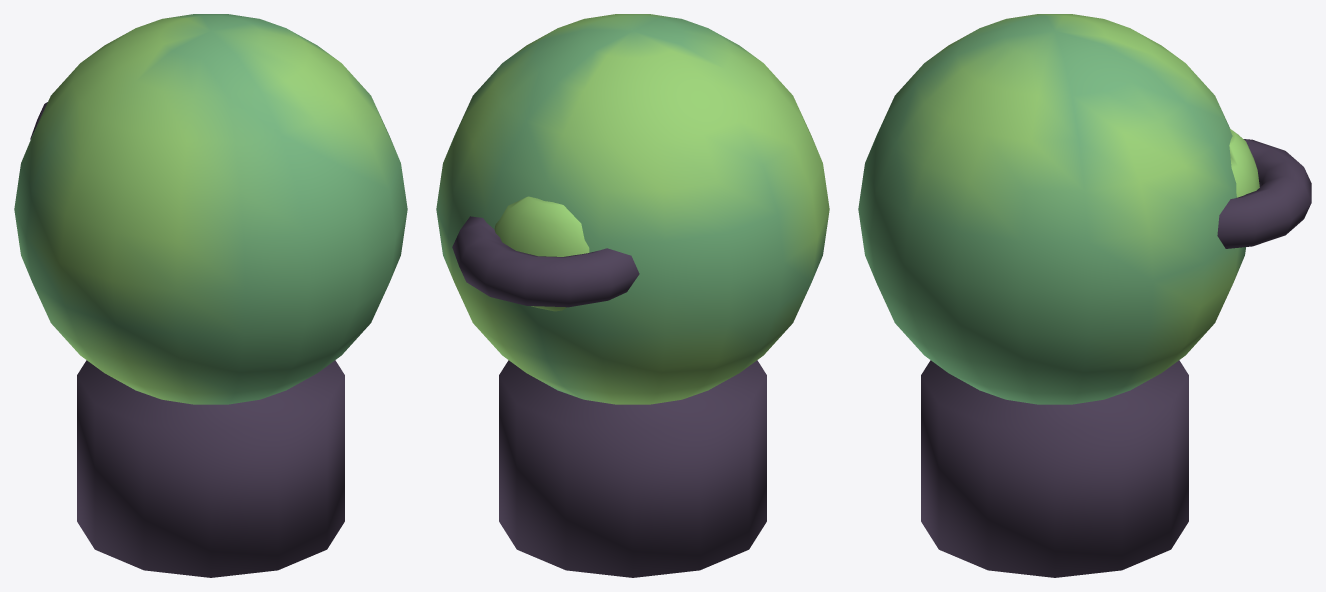
File: head_cyclops.glb
3 renders of one model, left to right at view 1: azimuth 30°, elevation 25°; view 2: azimuth 150°, elevation 25°; view 3: azimuth 270°, elevation 25°, orthographic.
Parts seen in each view (by area): view 1: CyclopsHead, NeckStub; view 2: CyclopsHead, NeckStub, EyeRing, CyclopsEye; view 3: CyclopsHead, NeckStub, EyeRing, CyclopsEye.
Boxes of the visible parts, left/top/right/bottom form: CyclopsHead: left=14, top=14, right=407, bottom=404; NeckStub: left=77, top=360, right=344, bottom=577; CyclopsHead: left=436, top=14, right=829, bottom=404; NeckStub: left=499, top=360, right=766, bottom=577; EyeRing: left=452, top=216, right=639, bottom=307; CyclopsEye: left=494, top=196, right=589, bottom=311; CyclopsHead: left=858, top=14, right=1245, bottom=404; NeckStub: left=921, top=360, right=1188, bottom=577; EyeRing: left=1217, top=139, right=1311, bottom=248; CyclopsEye: left=1229, top=128, right=1259, bottom=197.
Bounding box in the file's own units: 0.4333 × 0.605 × 0.5071.
